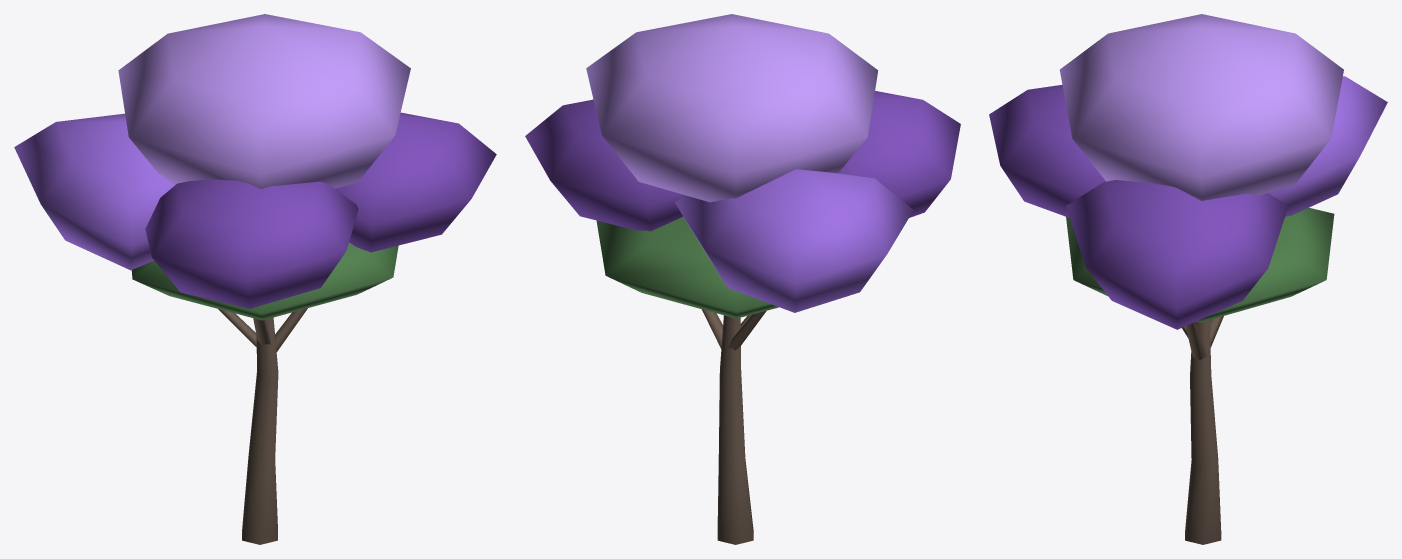
File: jacaranda_purple.glb
3 renders of one model, left to right at view 1: azimuth 30°, elevation 25°; view 2: azimuth 150°, elevation 25°; view 3: azimuth 270°, elevation 25°, orthographic.
Parts seen in each view (by area): view 1: Blossom_UpperCrown, Blossom_SWCloud, Blossom_NWCloud, Blossom_EastCloud, Trunk_Main, SubFoliage_GreenBase; view 2: Blossom_UpperCrown, Blossom_NWCloud, Blossom_EastCloud, SubFoliage_GreenBase, Blossom_SWCloud, Trunk_Main; view 3: Blossom_UpperCrown, Blossom_EastCloud, Blossom_SWCloud, SubFoliage_GreenBase, Blossom_NWCloud, Trunk_Main, Branch_East.
Boxes of the visible parts, box(x1,y1,x2,y2) form: Blossom_UpperCrown: box(118, 14, 410, 188); Blossom_SWCloud: box(145, 179, 358, 308); Blossom_NWCloud: box(14, 113, 174, 270); Blossom_EastCloud: box(335, 112, 496, 252); Trunk_Main: box(242, 317, 278, 544); SubFoliage_GreenBase: box(131, 242, 398, 320); Blossom_UpperCrown: box(586, 14, 878, 202); Blossom_NWCloud: box(675, 169, 913, 312); Blossom_EastCloud: box(525, 99, 684, 231); SubFoliage_GreenBase: box(596, 216, 778, 318); Blossom_SWCloud: box(838, 91, 960, 217); Trunk_Main: box(717, 315, 753, 544); Blossom_UpperCrown: box(1059, 14, 1343, 200); Blossom_EastCloud: box(1066, 180, 1288, 329); Blossom_SWCloud: box(989, 85, 1105, 217); SubFoliage_GreenBase: box(1066, 208, 1334, 322); Blossom_NWCloud: box(1268, 76, 1387, 216); Trunk_Main: box(1185, 320, 1221, 544); Branch_East: box(1185, 321, 1207, 360).
Bounding box in the file's own units: 7.69 × 9.14 × 6.48.
